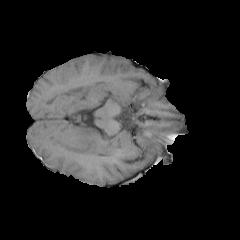glioma: (64, 129, 131, 160)
